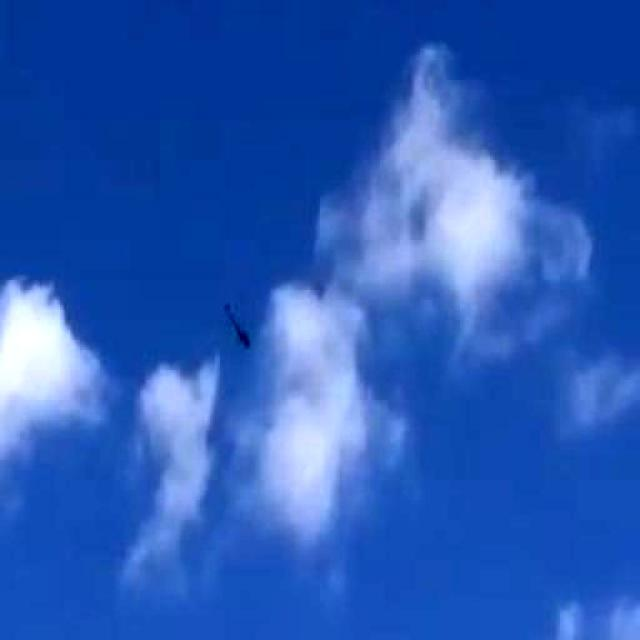drone: (198, 281, 276, 375)
